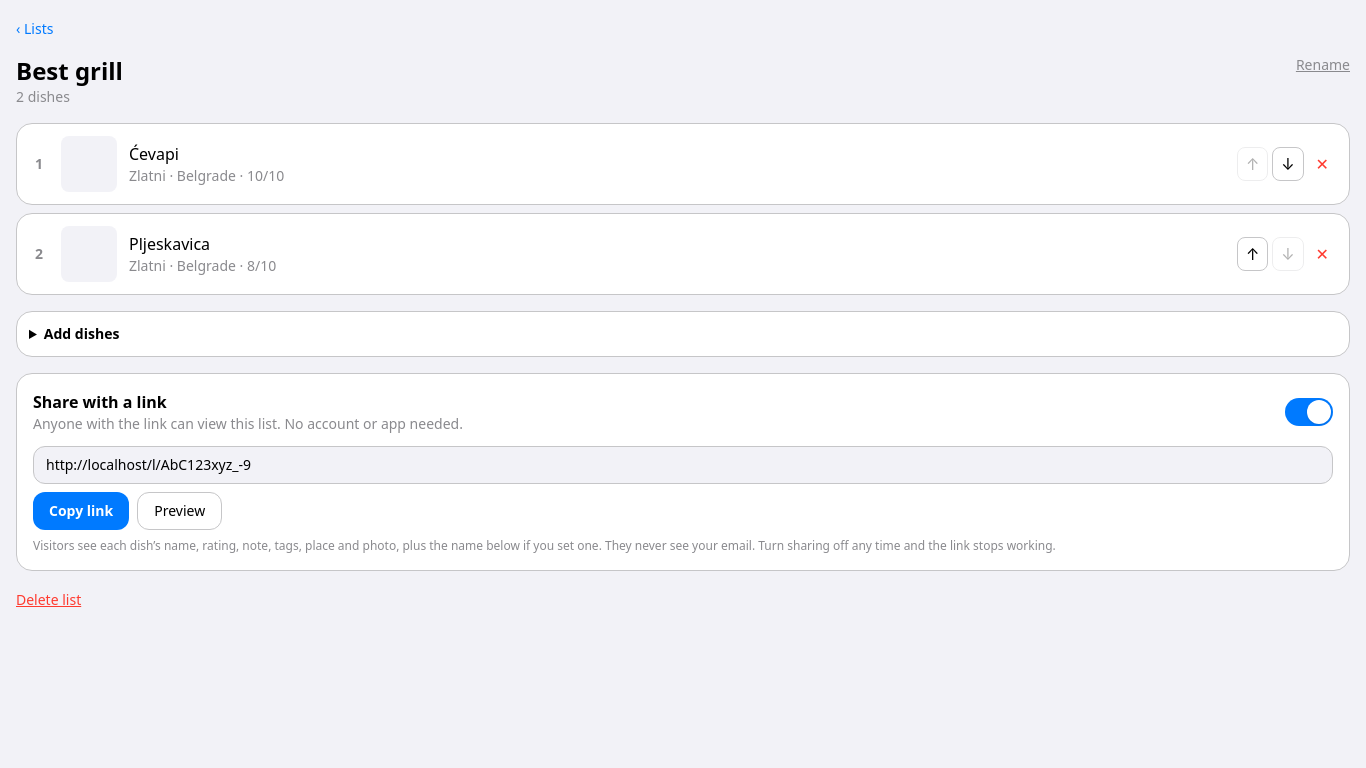
Test case: ListDetailPage: sharing › copies the link
Expected: the field named "Share link" is shown, [33,446,1333,484]
Click the button "Copy link". click: (81, 511)
box: [33,492,129,530]
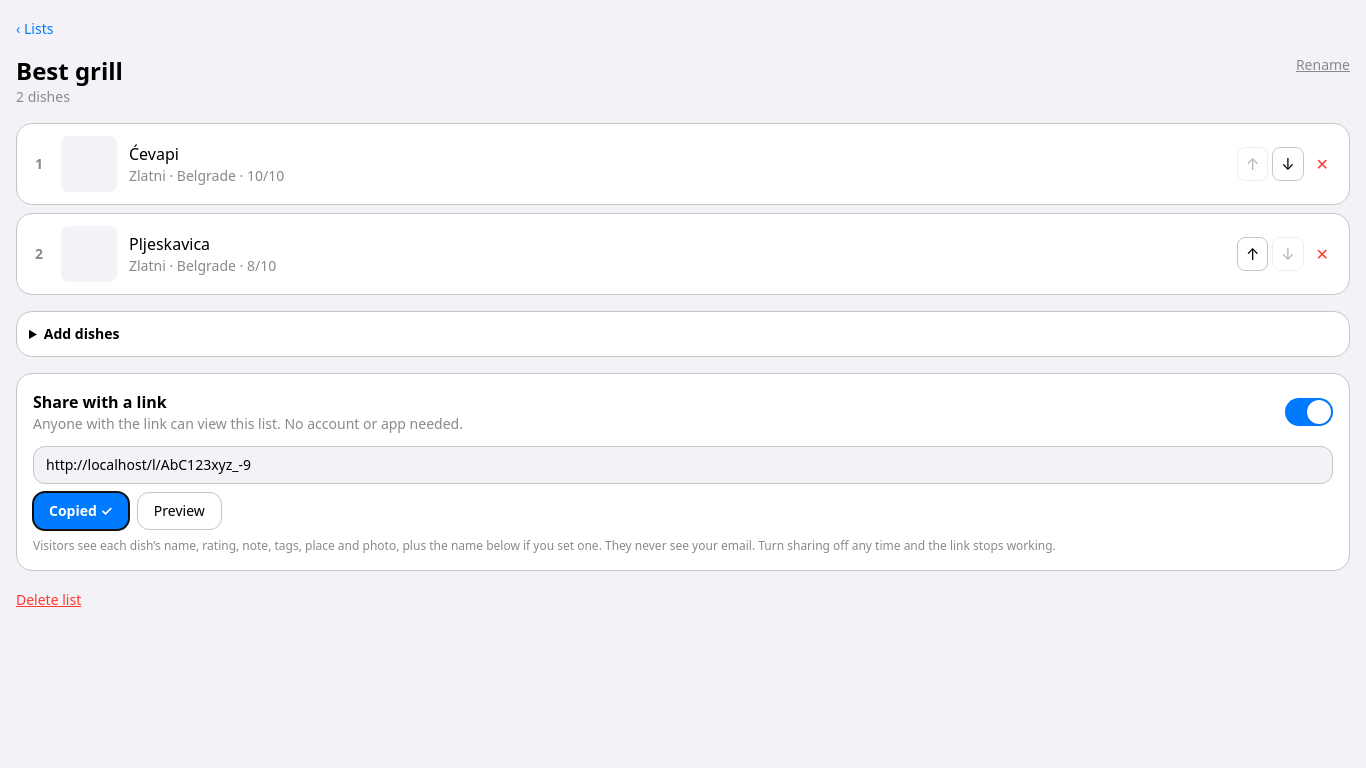
Now the button "Copied ✓" is shown, box [33,492,129,530]
